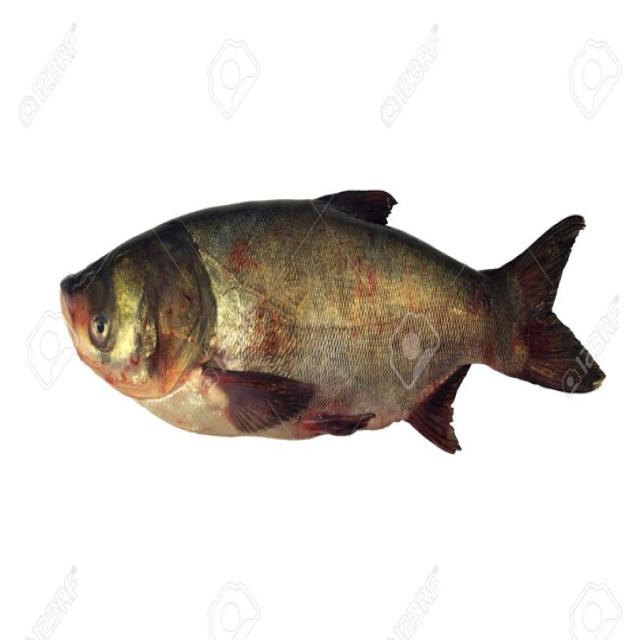Big-Head-Carp: (33, 190, 618, 498)
